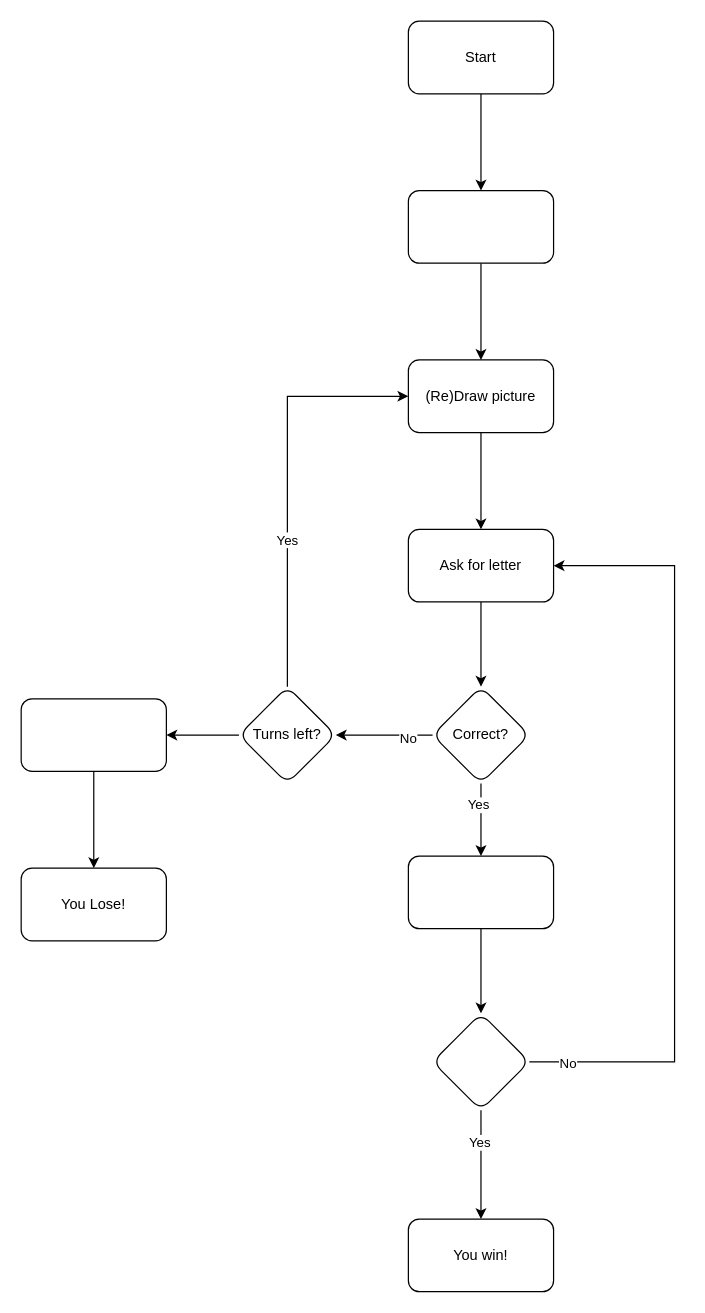
This 705x1313 diagram has some shape labels left out. Each missing label, with the centre of its shape:
all letters found?: (480,1061)
Display word with guess chars visible: (480,892)
Draw (final) picture: (93,734)
Select word from list: (480,226)
